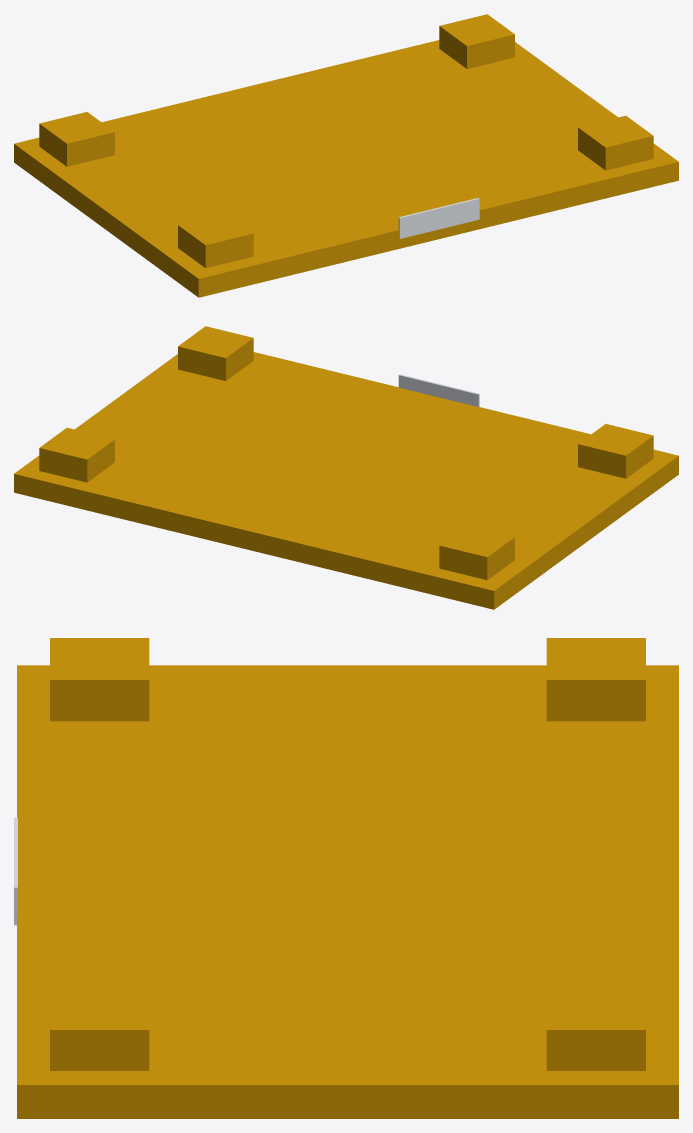
3 renders of one model, top to bottom at view 1: azimuth 30°, elevation 25°; view 2: azimuth 150°, elevation 25°; view 3: azimuth 270°, elevation 25°, orthographic. The views are drawn at different scales.
Visible parts, largest first — view 1: pallet, block:1, block:4, block:3, block:2, label:pallet; view 2: pallet, block:2, block:3, block:1, block:4, label:pallet; view 3: pallet, block:1, block:3, block:2, block:4.
Part boxes in pixels (x1,y1,x2,y2): pallet: (14,40,678,297); block:1: (39,112,114,166); block:4: (578,115,653,170); block:3: (178,213,253,268); block:2: (439,14,514,68); label:pallet: (398,198,479,238); pallet: (14,352,678,609); block:2: (39,427,114,482); block:3: (578,424,653,478); block:1: (439,525,514,580); block:4: (178,326,253,380); label:pallet: (398,374,479,406); pallet: (17,665,678,1118); block:1: (546,638,645,721); block:3: (50,638,149,721); block:2: (546,988,645,1070); block:4: (50,988,149,1070).
Bounding box in the file's own units: 1.2 × 0.1 × 0.8035.
